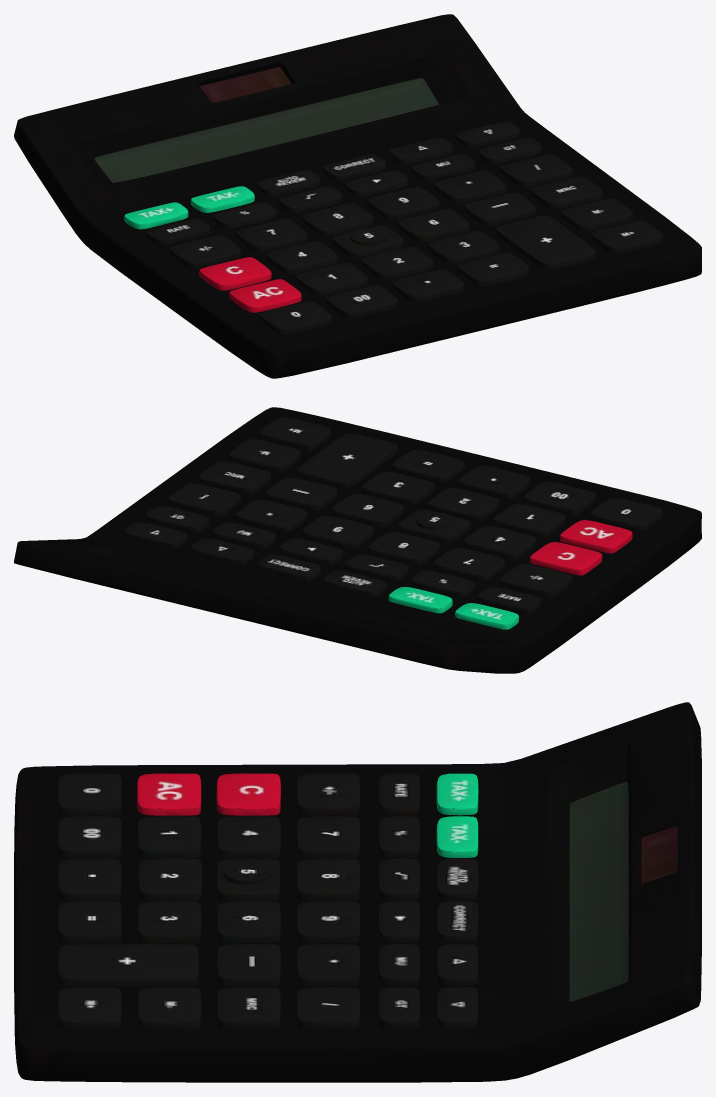
The model's file is calculator.glb.
3 renders of one model, top to bottom at view 1: azimuth 30°, elevation 25°; view 2: azimuth 150°, elevation 25°; view 3: azimuth 270°, elevation 25°, orthographic. The views are drawn at different scales.
Parts seen in each view (by area): view 1: _0_Calculator_02_0; view 2: _0_Calculator_02_0; view 3: _0_Calculator_02_0.
Boxes of the visible parts, left/top/right/bottom form: _0_Calculator_02_0: left=14, top=14, right=701, bottom=378; _0_Calculator_02_0: left=14, top=407, right=701, bottom=673; _0_Calculator_02_0: left=14, top=702, right=701, bottom=1082.
Size of the model in its own units: 0.1564 by 0.0288 by 0.16.
Materials: 1 (1 with a texture image).
